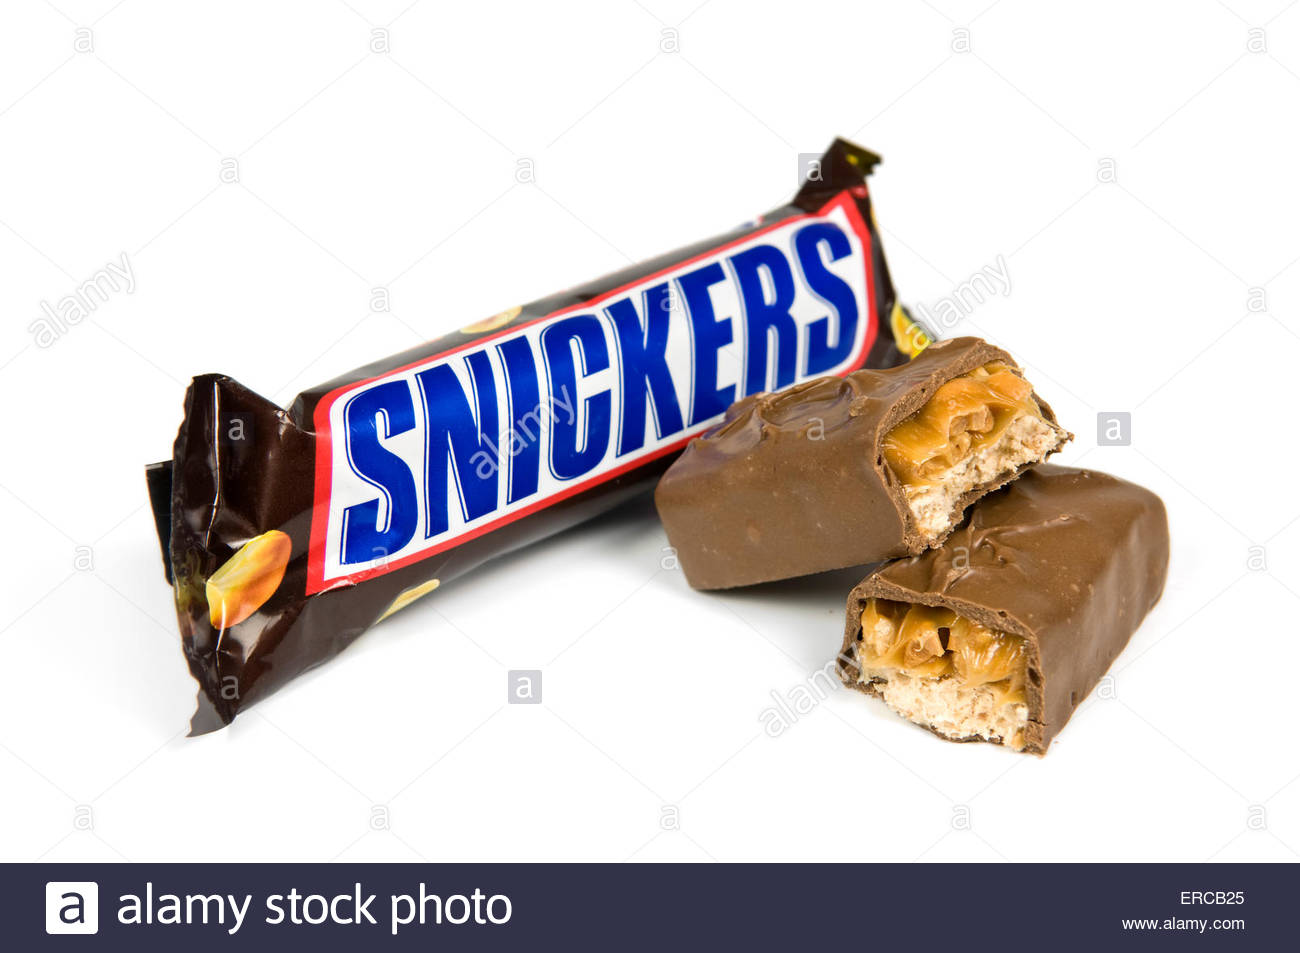snickers: (313, 248, 964, 562), (336, 248, 964, 562), (336, 218, 858, 562)
